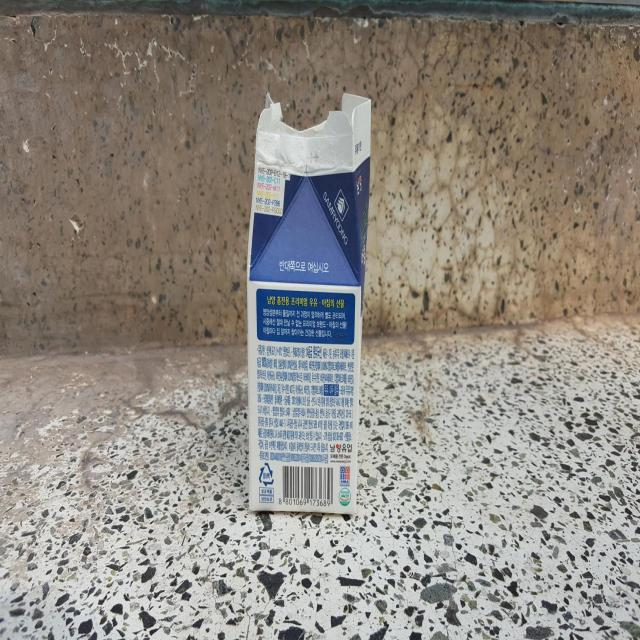paperpack: (247, 92, 371, 514)
